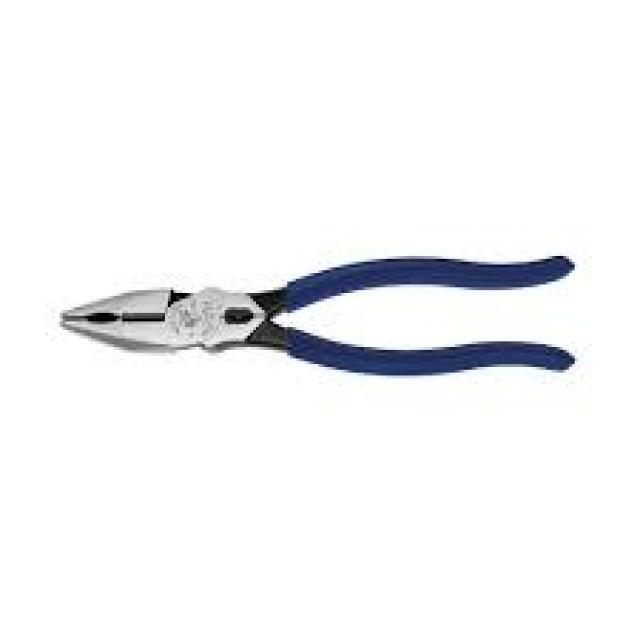pliers: (50, 235, 598, 388)
